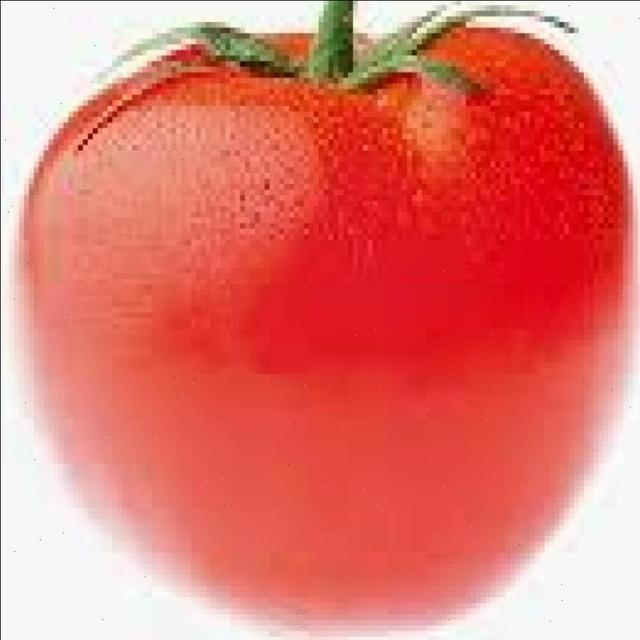Healthy Fruit: (19, 3, 427, 418)
